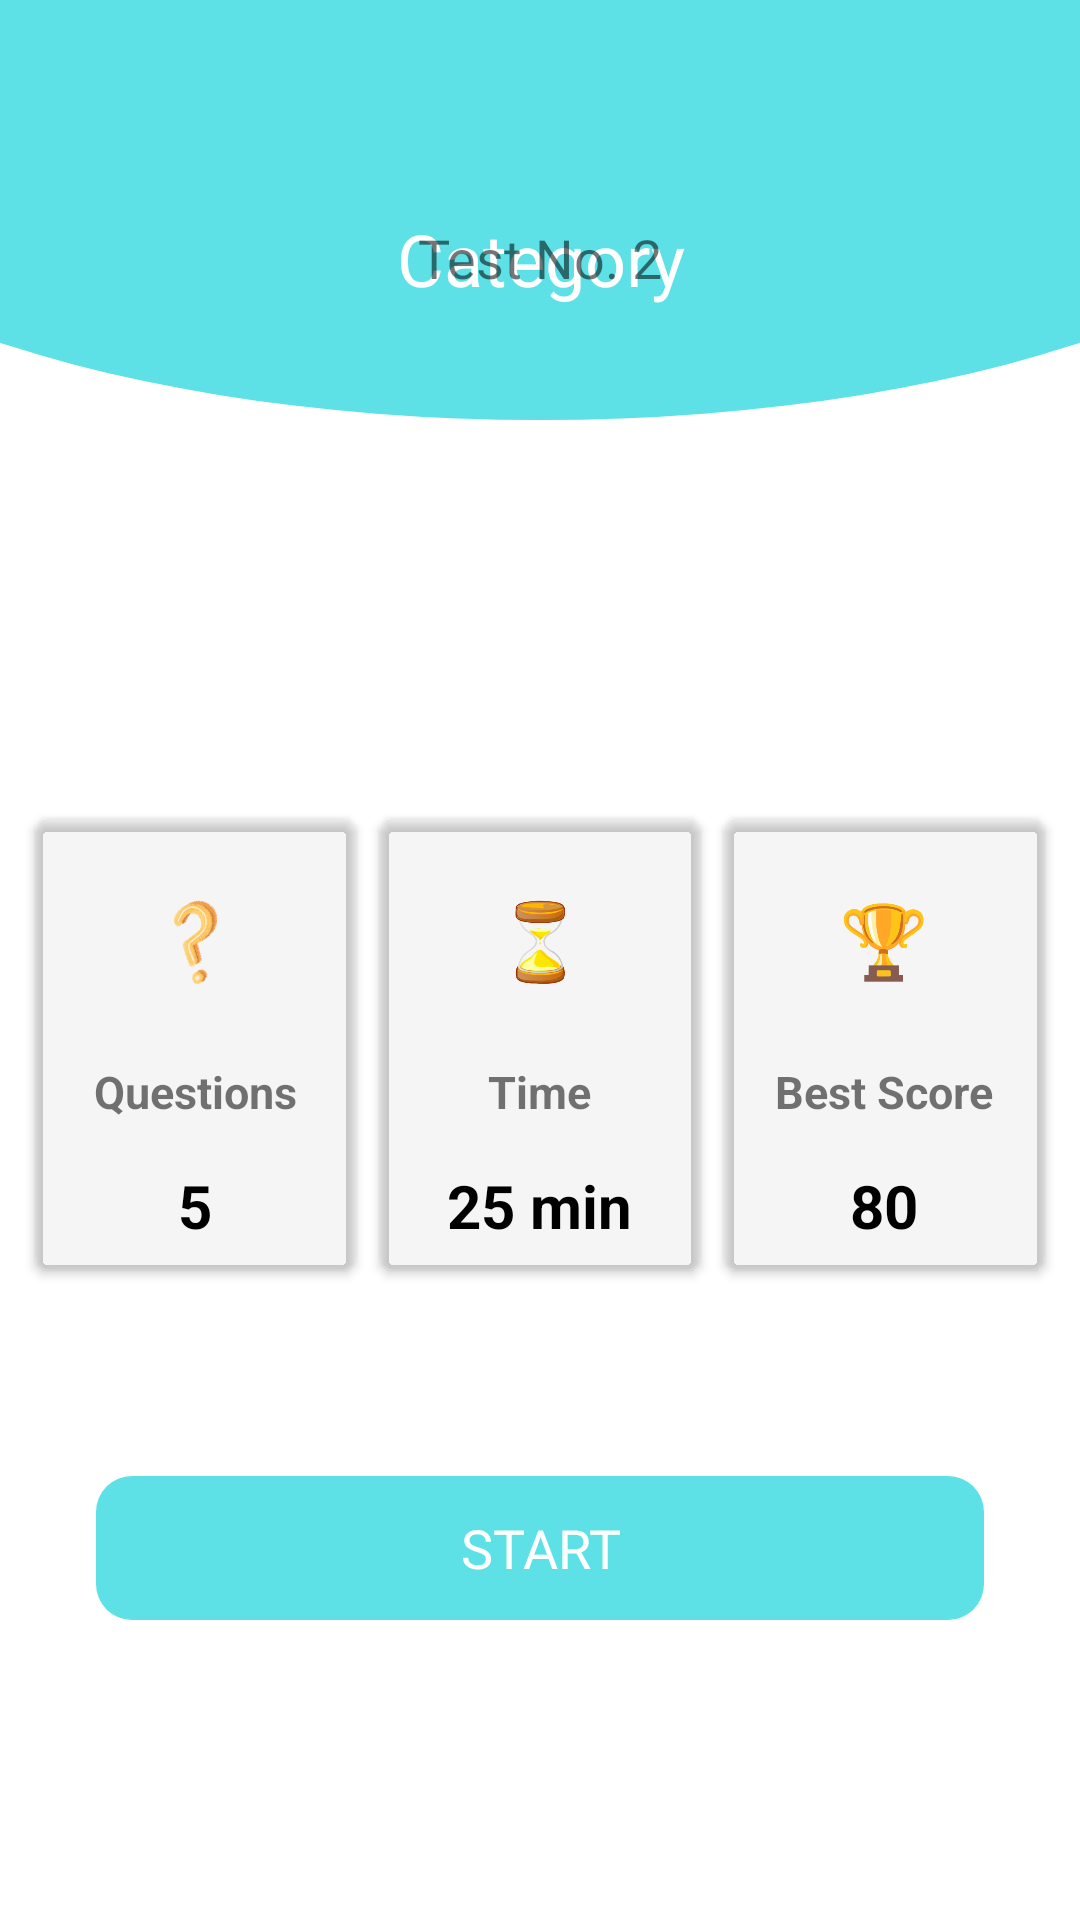

Icon click points for this 1080 x 1920 phone screenshot, format [x,y]:
hourglass: [540,942]
trophy: [883,942]
